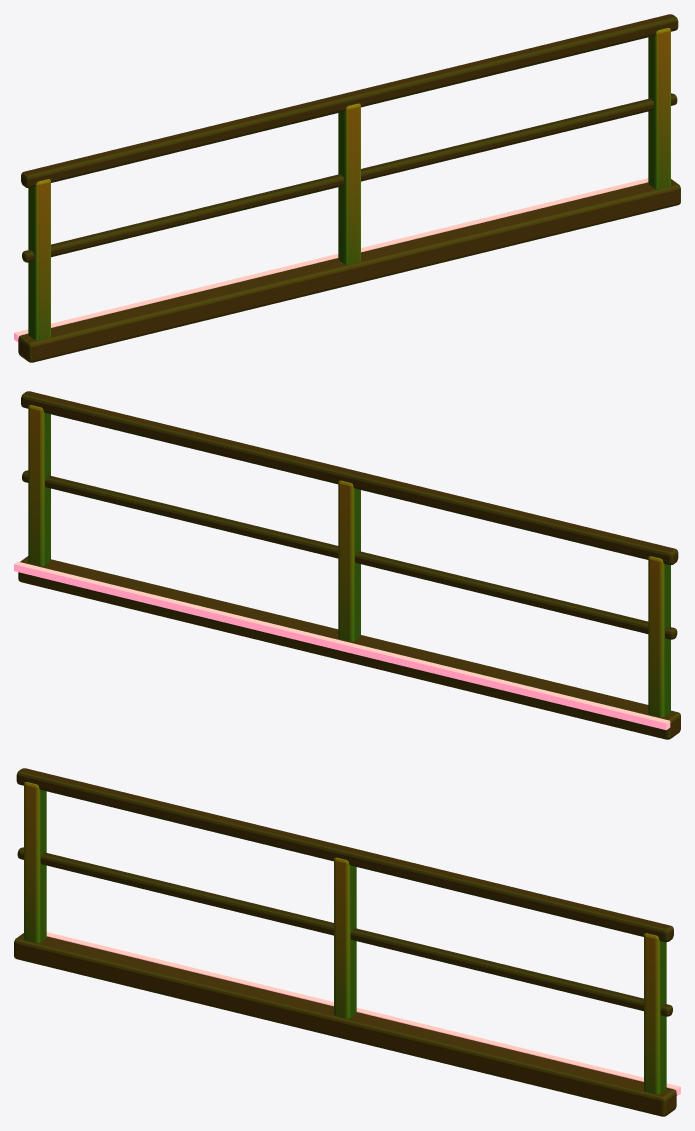
Rendered from railing.glb.
3 renders of one model, top to bottom at view 1: azimuth 30°, elevation 25°; view 2: azimuth 150°, elevation 25°; view 3: azimuth 330°, elevation 25°, orthographic.
Parts seen in each view (by area): view 1: railing; view 2: railing; view 3: railing.
Part boxes in pixels (<box>): railing: <box>14,14,680,362</box>; railing: <box>14,391,680,739</box>; railing: <box>14,768,680,1116</box>.
Bounding box in the file's own units: 4 × 1.09 × 0.17.
